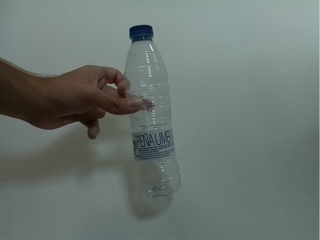botella plastico: (121, 22, 184, 201)
